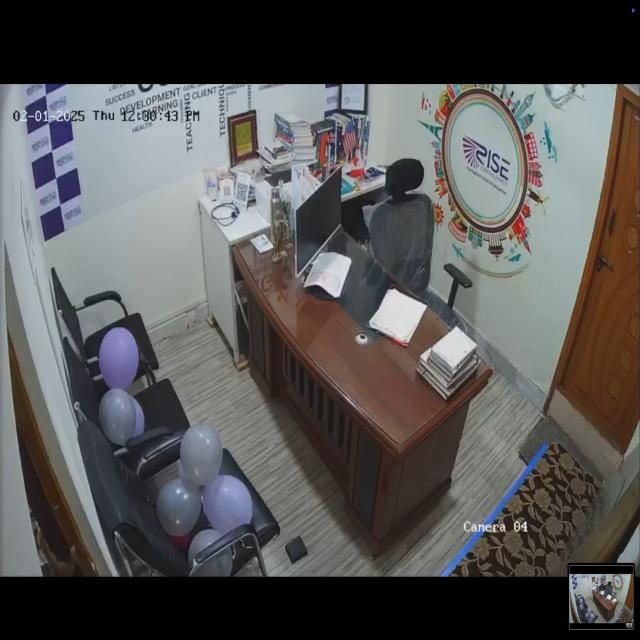wallet: (284, 534, 310, 564)
